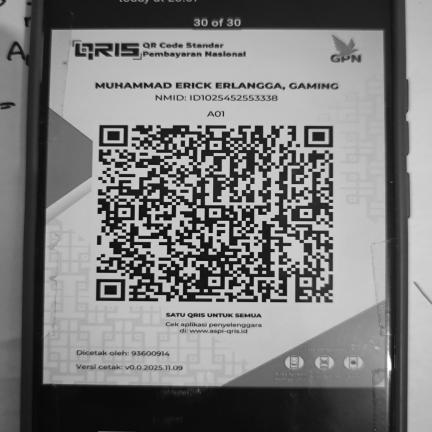Cara Pakai QRIS: (267, 344, 367, 384)
Cek Aplikasi Penyelenggara: (159, 320, 268, 337)
Dicetak Oleh: (70, 347, 176, 358)
Logo GPN: (321, 32, 367, 69)
Logo dan deskripsi QRIS: (58, 35, 253, 65)
Nama Merchant: (90, 79, 345, 92)
National Merchant ID: (150, 93, 285, 104)
QR Code: (92, 122, 338, 307)
Slogan: (159, 310, 268, 319)
Terminal ID: (203, 109, 230, 119)
Versi Cetak: (70, 360, 191, 375)
